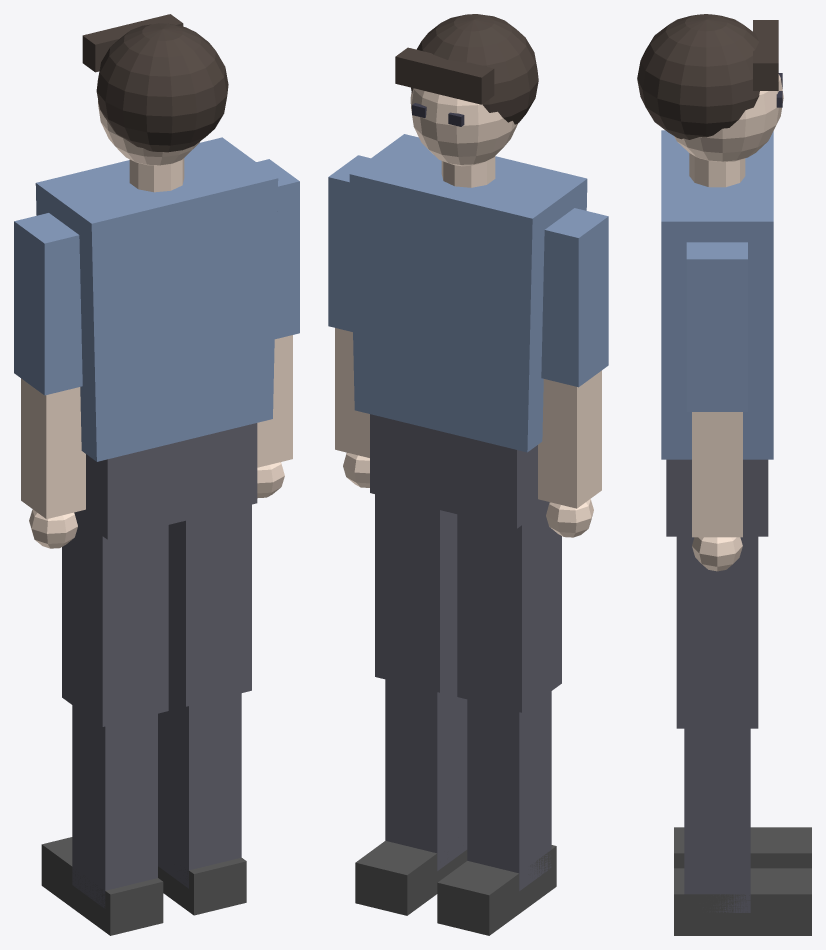
File: Character_Male.fbx
3 views of the same model, side by side, from view 1: azimuth 30°, elevation 25°; view 2: azimuth 150°, elevation 25°; view 3: azimuth 270°, elevation 25° (orthographic). The views are drawn at different scales.
Visible parts, largest first — view 1: Chest, Thigh_L, Thigh_R, Shin_L, Shin_R, Hair, Pelvis, UpperArm_L, Forearm_L, Shoe_L, UpperArm_R, Shoe_R (+6 smaller); view 2: Chest, Thigh_L, Thigh_R, Shin_L, Shin_R, Pelvis, UpperArm_L, Forearm_L, Hair, Shoe_L, Shoe_R, HeadMesh (+6 smaller); view 3: Chest, Thigh_R, Hair, Shin_R, UpperArm_R, Shoe_R, Forearm_R, Pelvis, HeadMesh, Shoe_L, Fringe, Neck (+1 smaller).
Part boxes in pixels (x1=…): Chest: x1=35, y1=137, x2=278, y2=461; Thigh_L: x1=62, y1=499, x2=168, y2=726; Thigh_R: x1=168, y1=504, x2=251, y2=706; Shin_L: x1=72, y1=705, x2=157, y2=908; Shin_R: x1=158, y1=693, x2=241, y2=888; Hair: x1=96, y1=23, x2=228, y2=152; Pelvis: x1=86, y1=423, x2=257, y2=539; UpperArm_L: x1=14, y1=213, x2=82, y2=395; Forearm_L: x1=21, y1=378, x2=85, y2=519; Shoe_L: x1=41, y1=837, x2=163, y2=935; UpperArm_R: x1=256, y1=159, x2=299, y2=339; Shoe_R: x1=158, y1=857, x2=246, y2=915; Chest: x1=349, y1=134, x2=587, y2=452; Thigh_L: x1=457, y1=489, x2=561, y2=712; Thigh_R: x1=375, y1=494, x2=457, y2=692; Shin_L: x1=467, y1=691, x2=551, y2=890; Shin_R: x1=385, y1=679, x2=467, y2=870; Pelvis: x1=370, y1=414, x2=537, y2=528; UpperArm_L: x1=541, y1=208, x2=608, y2=387; Forearm_L: x1=538, y1=370, x2=601, y2=508; Hair: x1=411, y1=14, x2=538, y2=124; Shoe_L: x1=437, y1=845, x2=556, y2=935; Shoe_R: x1=355, y1=841, x2=467, y2=915; HeadMesh: x1=410, y1=88, x2=517, y2=166; Chest: x1=661, y1=130, x2=773, y2=459; Thigh_R: x1=676, y1=511, x2=758, y2=728; Hair: x1=637, y1=14, x2=759, y2=139; Shin_R: x1=684, y1=728, x2=750, y2=912; UpperArm_R: x1=686, y1=242, x2=747, y2=411; Shoe_R: x1=674, y1=868, x2=811, y2=935; Forearm_R: x1=692, y1=412, x2=742, y2=537; Pelvis: x1=666, y1=459, x2=768, y2=536; HeadMesh: x1=674, y1=74, x2=783, y2=162; Shoe_L: x1=674, y1=827, x2=811, y2=868; Fringe: x1=753, y1=20, x2=778, y2=90; Neck: x1=689, y1=153, x2=745, y2=187.
Bounding box in the file's own units: 0.58 × 0.3422 × 1.91.
